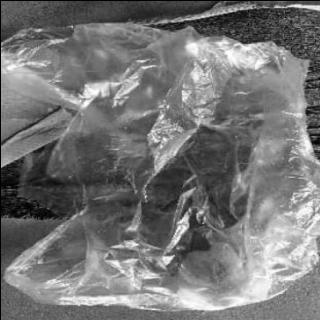objects: (0, 9, 315, 317)
